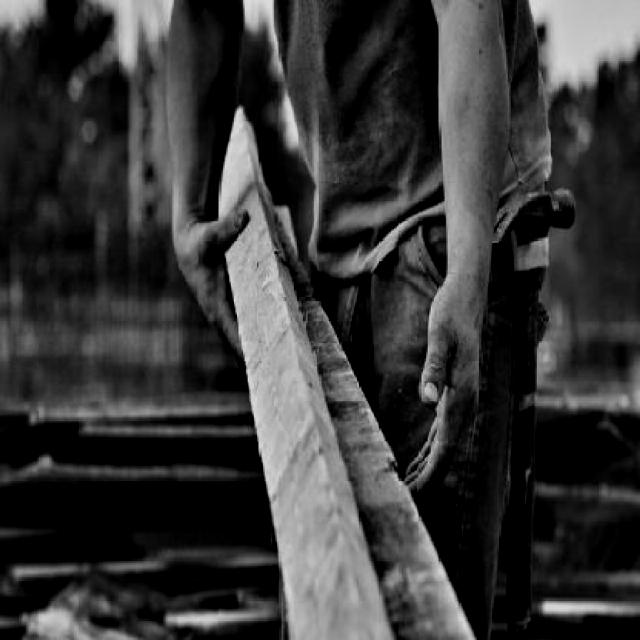hand_noglove: (403, 289, 486, 496), (174, 201, 251, 348)
